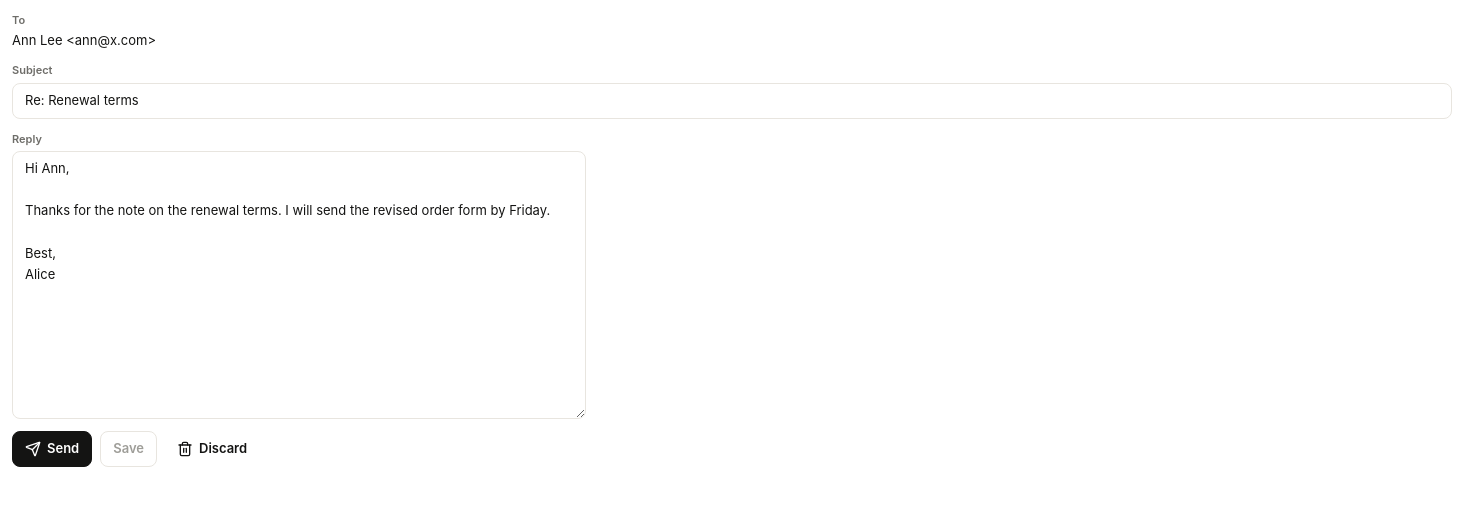
Test: DraftForm: an email draft (Decisions 2 to 6) › shows the provider's refusal in the server words
Click the button "Send": (52, 448) [12,430,92,466]
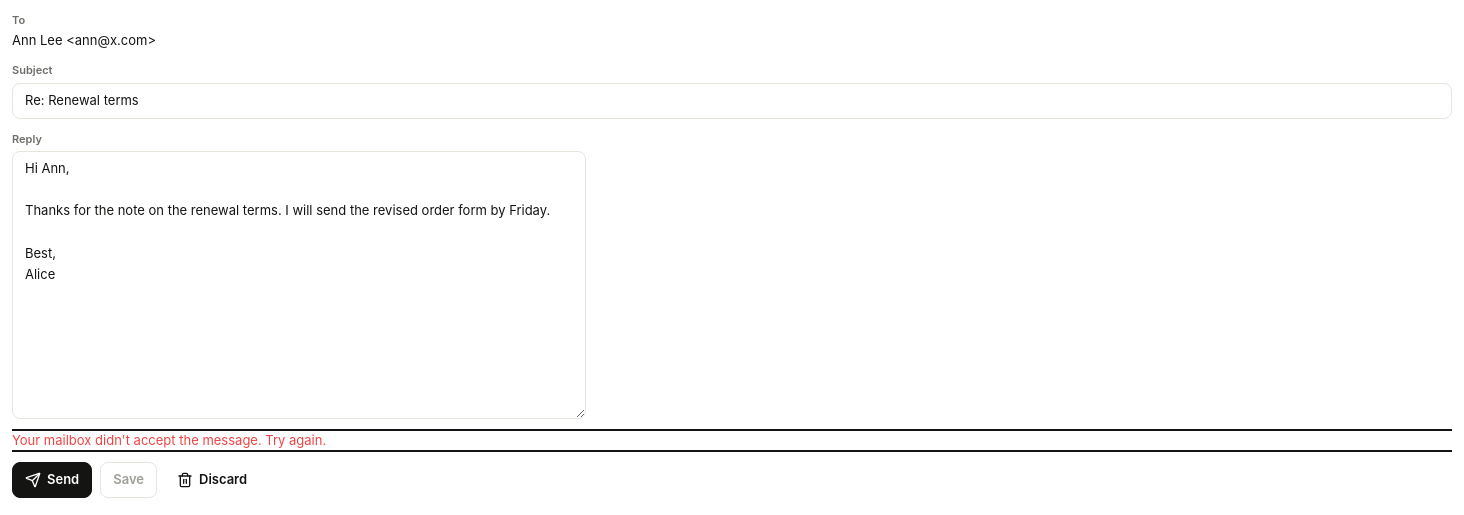
Result: the message reads "Your mailbox didn't accept the message. Try again." at [12,432,326,448]
